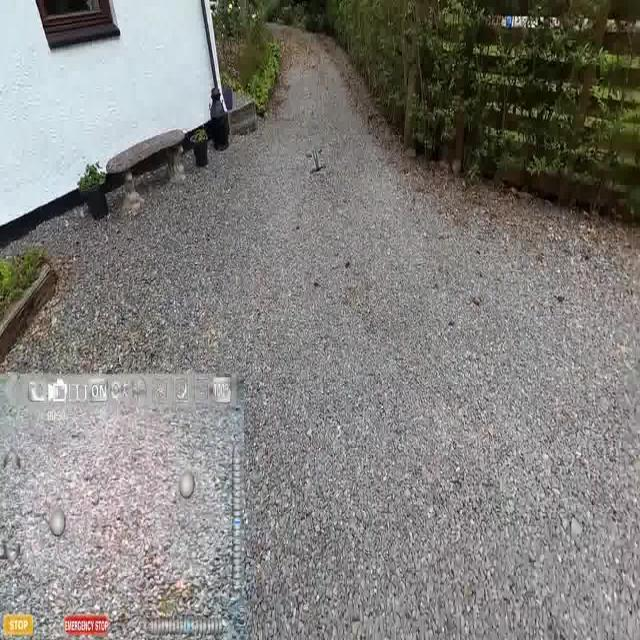drone: (302, 141, 332, 183)
